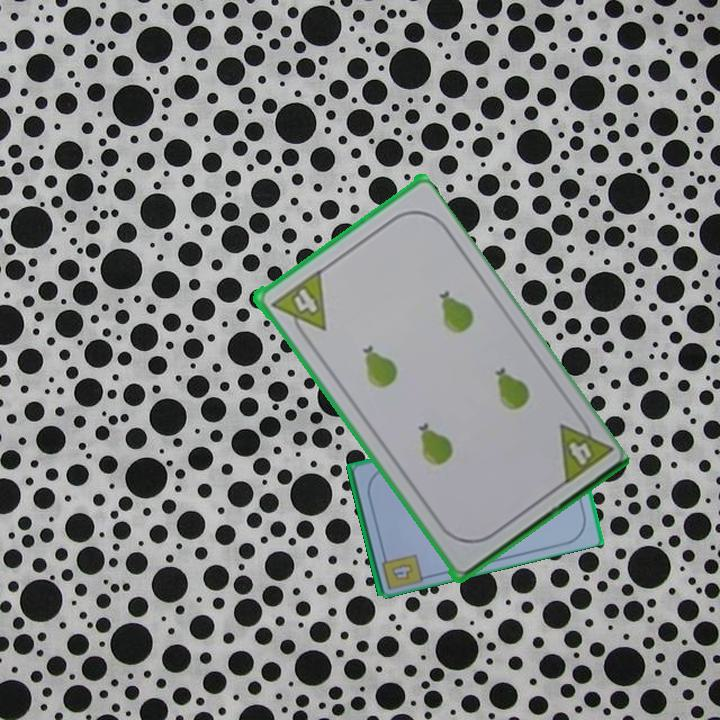4b: (388, 560, 416, 583)
4p: (554, 408, 614, 489), (266, 267, 329, 344)
